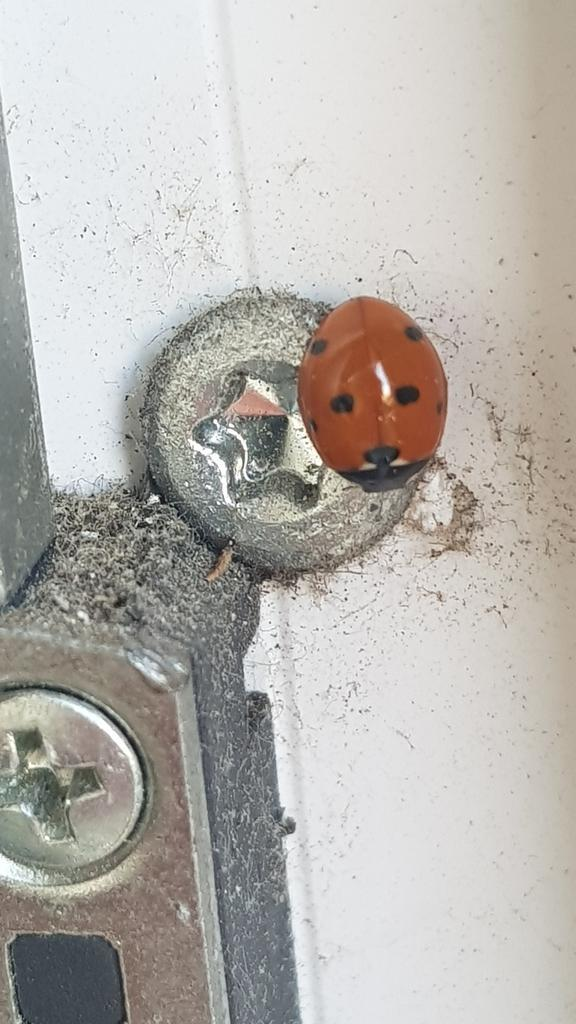ladybug: (294, 291, 454, 496)
